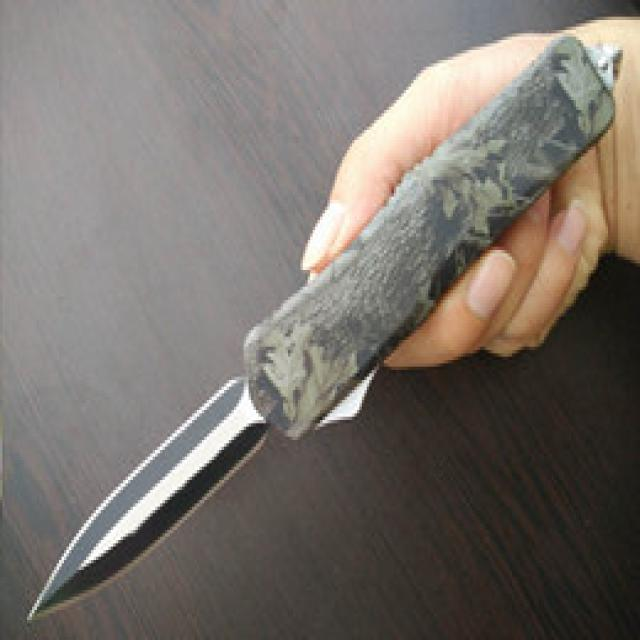knife: (25, 32, 620, 627)
